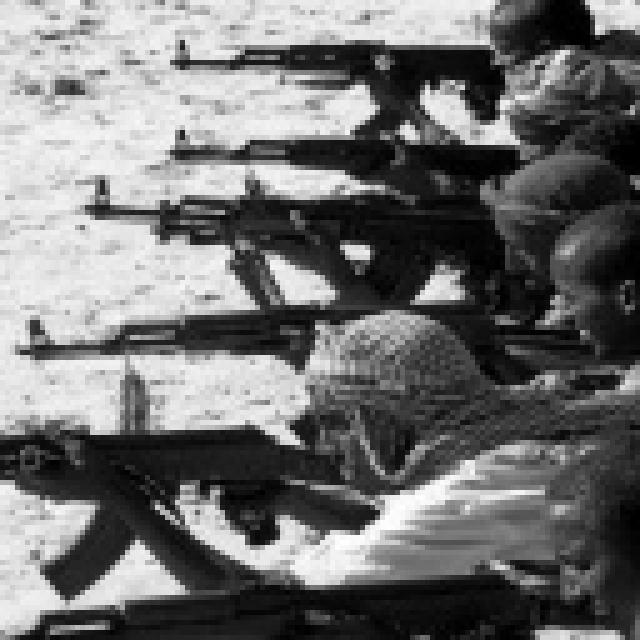Rifle: (0, 379, 402, 628), (10, 265, 625, 427), (60, 158, 556, 334), (138, 92, 568, 259), (148, 17, 580, 150), (11, 544, 601, 640)
